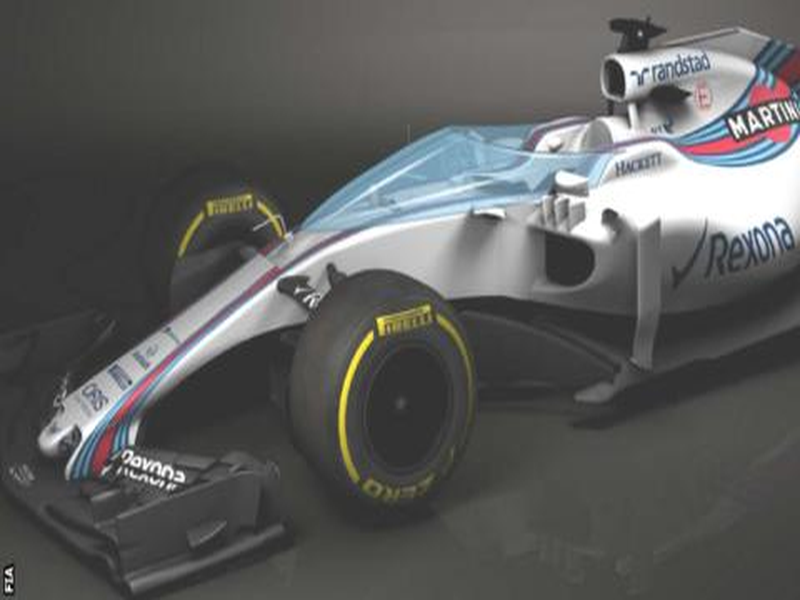f1: (8, 15, 800, 569)
